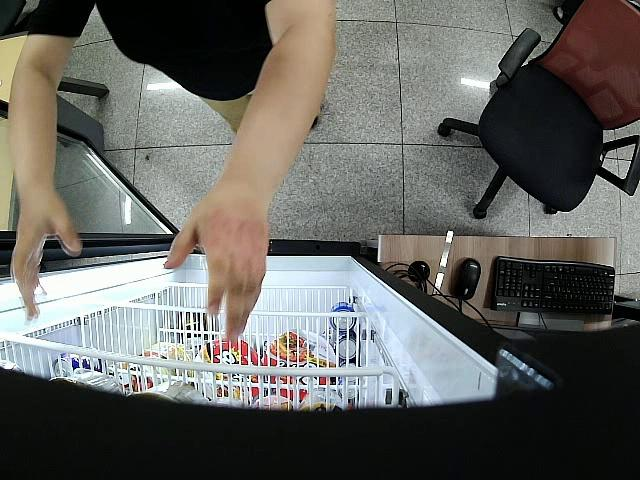00_hand: (163, 183, 268, 347), (10, 192, 82, 319)
